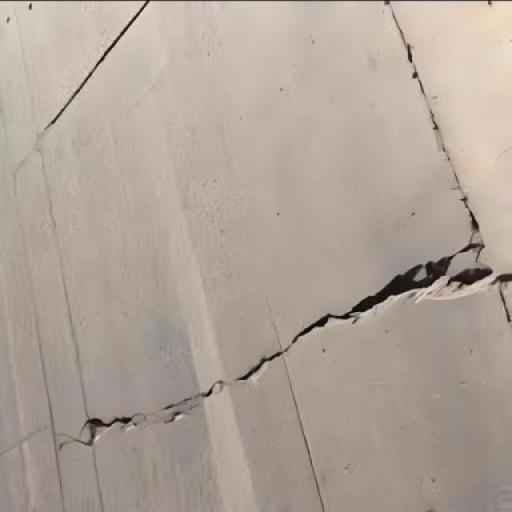moderate crack: (128, 14, 330, 511), (420, 469, 443, 504), (490, 480, 512, 509), (495, 142, 512, 162), (126, 412, 145, 427), (400, 209, 416, 223), (424, 507, 436, 512), (344, 463, 352, 470)
severe crack: (32, 133, 102, 440), (36, 1, 157, 133), (0, 421, 62, 460), (14, 129, 54, 189), (384, 5, 419, 69), (85, 440, 107, 509), (457, 194, 483, 242), (40, 106, 66, 135), (497, 280, 510, 318), (432, 129, 448, 154), (164, 410, 186, 422), (32, 138, 42, 156), (57, 438, 72, 449), (468, 240, 483, 249), (448, 179, 461, 189), (458, 194, 468, 203), (430, 120, 438, 131)
